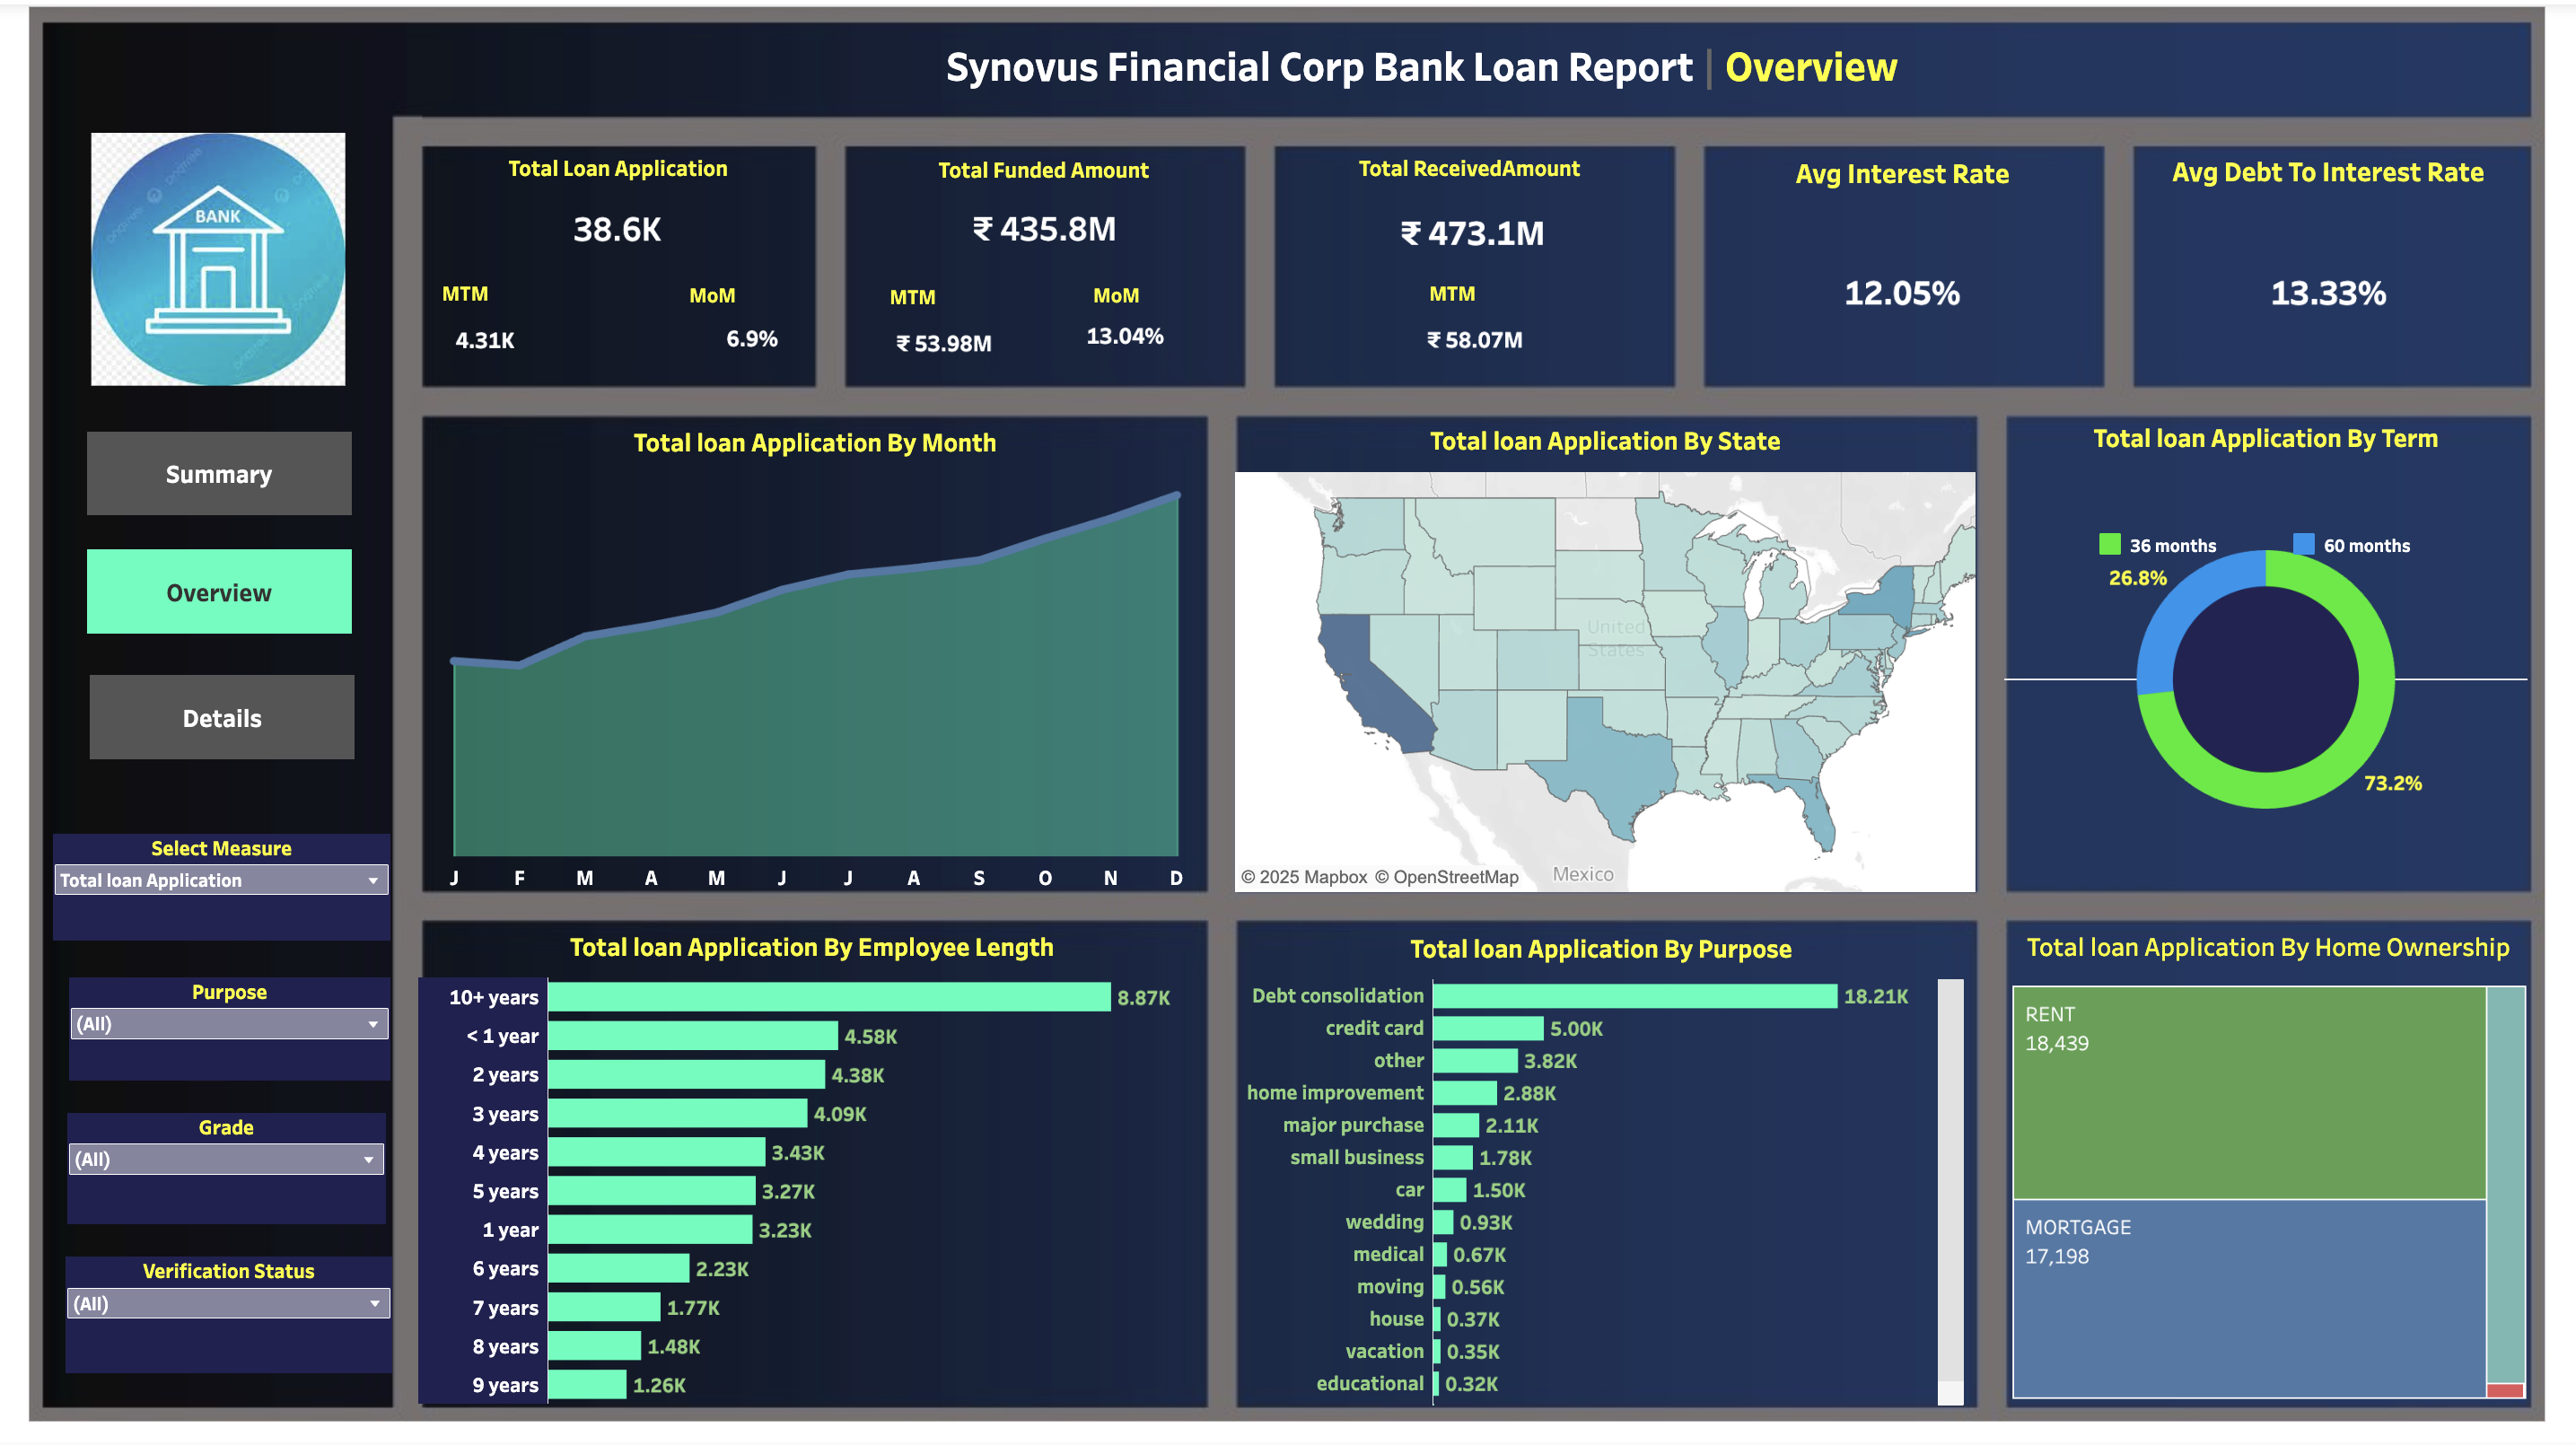

The page's visual inventory and layout, read from the dashboard file:
{"tool":"tableau","page":{"name":"Overview","canvas":[1600,900],"ordinal":1},"visuals":[{"type":"image","param":"Image/Tableau Background 2.jpg","box":[8,8,1584,884]},{"type":"text","box":[589,8,613,81]},{"type":"image","param":"Image/bank logo.jpg","box":[54,90,169,157]},{"type":"worksheet","title":"Total Loan Application","mark":"Automatic","box":[264,96,244,72]},{"type":"worksheet","title":"Total ReceivedAmount ","mark":"Automatic","box":[792,96,245,77]},{"type":"worksheet","title":"Avg Debt To Interest Rate","mark":"Automatic","box":[1322,96,245,147]},{"type":"worksheet","title":"Total Funded Amount","mark":"Automatic","box":[527,97,245,70]},{"type":"worksheet","title":"Avg Interest Rate","mark":"Automatic","box":[1058,97,246,145]},{"type":"worksheet","title":"MTD Loan Application","mark":"Automatic","box":[259,170,88,96]},{"type":"text","box":[277,175,72,30]},{"type":"text","box":[888,175,72,30]},{"type":"text","box":[430,176,72,30]},{"type":"text","box":[680,176,72,30]},{"type":"text","box":[554,177,72,30]},{"type":"worksheet","title":"MTD Total Received Amount","mark":"Automatic","box":[835,180,161,75]},{"type":"worksheet","title":"MTD Funded Amount","mark":"Automatic","box":[521,187,132,66]},{"type":"worksheet","title":"MOM Total Funded Amount","mark":"Automatic","box":[668,205,87,31]},{"type":"worksheet","title":"MOM Loan Application","mark":"Automatic","box":[429,207,69,62]},{"type":"worksheet","title":"Term","mark":"Pie","rows":["Calculation_1130403563938263054","Calculation_1130403563938263054"],"box":[1244,262,324,297]},{"type":"worksheet","title":"States","mark":"Multipolygon","box":[768,264,458,296]},{"type":"worksheet","title":"Month","mark":"Area","rows":["Calculation_1130403563925954572","Calculation_1130403563925954572"],"cols":["issue_date"],"box":[264,265,488,295]},{"type":"dashboard-object","box":[57,275,164,52]},{"type":"legend","title":"Term","param":"[federated.0f3mjcy0o69zlp1cbd7410tlexed].[none:term:nk]","box":[1300,335,249,23]},{"type":"dashboard-object","box":[57,348,164,52]},{"type":"dashboard-object","box":[59,426,164,52]},{"type":"parameter","param":"[Parameters].[Parameter 1]","box":[36,524,209,66]},{"type":"worksheet","title":"Emp Lenth","mark":"Automatic","rows":["emp_length"],"cols":["Calculation_1130403563925954572"],"box":[262,577,488,300]},{"type":"worksheet","title":"Home Ownership","mark":"Automatic","box":[1245,577,325,300]},{"type":"worksheet","title":"Purpose","mark":"Automatic","rows":["purpose"],"cols":["Calculation_1130403563925954572"],"box":[770,578,451,300]},{"type":"filter","title":"Avg Debt To Interest Rate","param":"[federated.0f3mjcy0o69zlp1cbd7410tlexed].[none:purpose:nk]","box":[46,613,199,64]},{"type":"filter","title":"Avg Debt To Interest Rate","param":"[federated.0f3mjcy0o69zlp1cbd7410tlexed].[none:grade:nk]","box":[45,697,197,69]},{"type":"filter","title":"Avg Debt To Interest Rate","param":"[federated.0f3mjcy0o69zlp1cbd7410tlexed].[none:verification_status:nk]","box":[44,786,202,72]}]}

Visuals, with their boxes in screenshot pixels (x1, y1, x2, y2), scaled from the page's 1600x900 canvas onto the 2576x1445 screenshot:
image: [13,13,2563,1432]
text: [949,13,1935,143]
image: [87,144,359,397]
"Total Loan Application" worksheet: [425,154,818,270]
"Total ReceivedAmount " worksheet: [1275,154,1669,277]
"Avg Debt To Interest Rate" worksheet: [2128,154,2523,390]
"Total Funded Amount" worksheet: [848,156,1243,268]
"Avg Interest Rate" worksheet: [1704,156,2099,389]
"MTD Loan Application" worksheet: [417,273,558,427]
text: [446,281,562,329]
text: [1430,281,1546,329]
text: [692,283,808,331]
text: [1095,283,1211,331]
text: [892,285,1008,332]
"MTD Total Received Amount" worksheet: [1345,289,1604,409]
"MTD Funded Amount" worksheet: [839,301,1051,407]
"MOM Total Funded Amount" worksheet: [1075,329,1215,379]
"MOM Loan Application" worksheet: [691,332,802,432]
"Term" worksheet (Pie marks): [2002,421,2525,898]
"States" worksheet (Multipolygon marks): [1237,424,1974,899]
"Month" worksheet (Area marks): [425,425,1211,899]
dashboard-object: [92,442,355,525]
"Term" legend: [2093,538,2494,574]
dashboard-object: [92,559,355,643]
dashboard-object: [95,684,359,767]
parameter: [58,841,394,947]
"Emp Lenth" worksheet: [422,926,1207,1408]
"Home Ownership" worksheet: [2004,926,2528,1408]
"Purpose" worksheet: [1240,928,1966,1410]
"Avg Debt To Interest Rate" filter: [74,985,394,1087]
"Avg Debt To Interest Rate" filter: [73,1119,390,1230]
"Avg Debt To Interest Rate" filter: [71,1262,396,1378]
